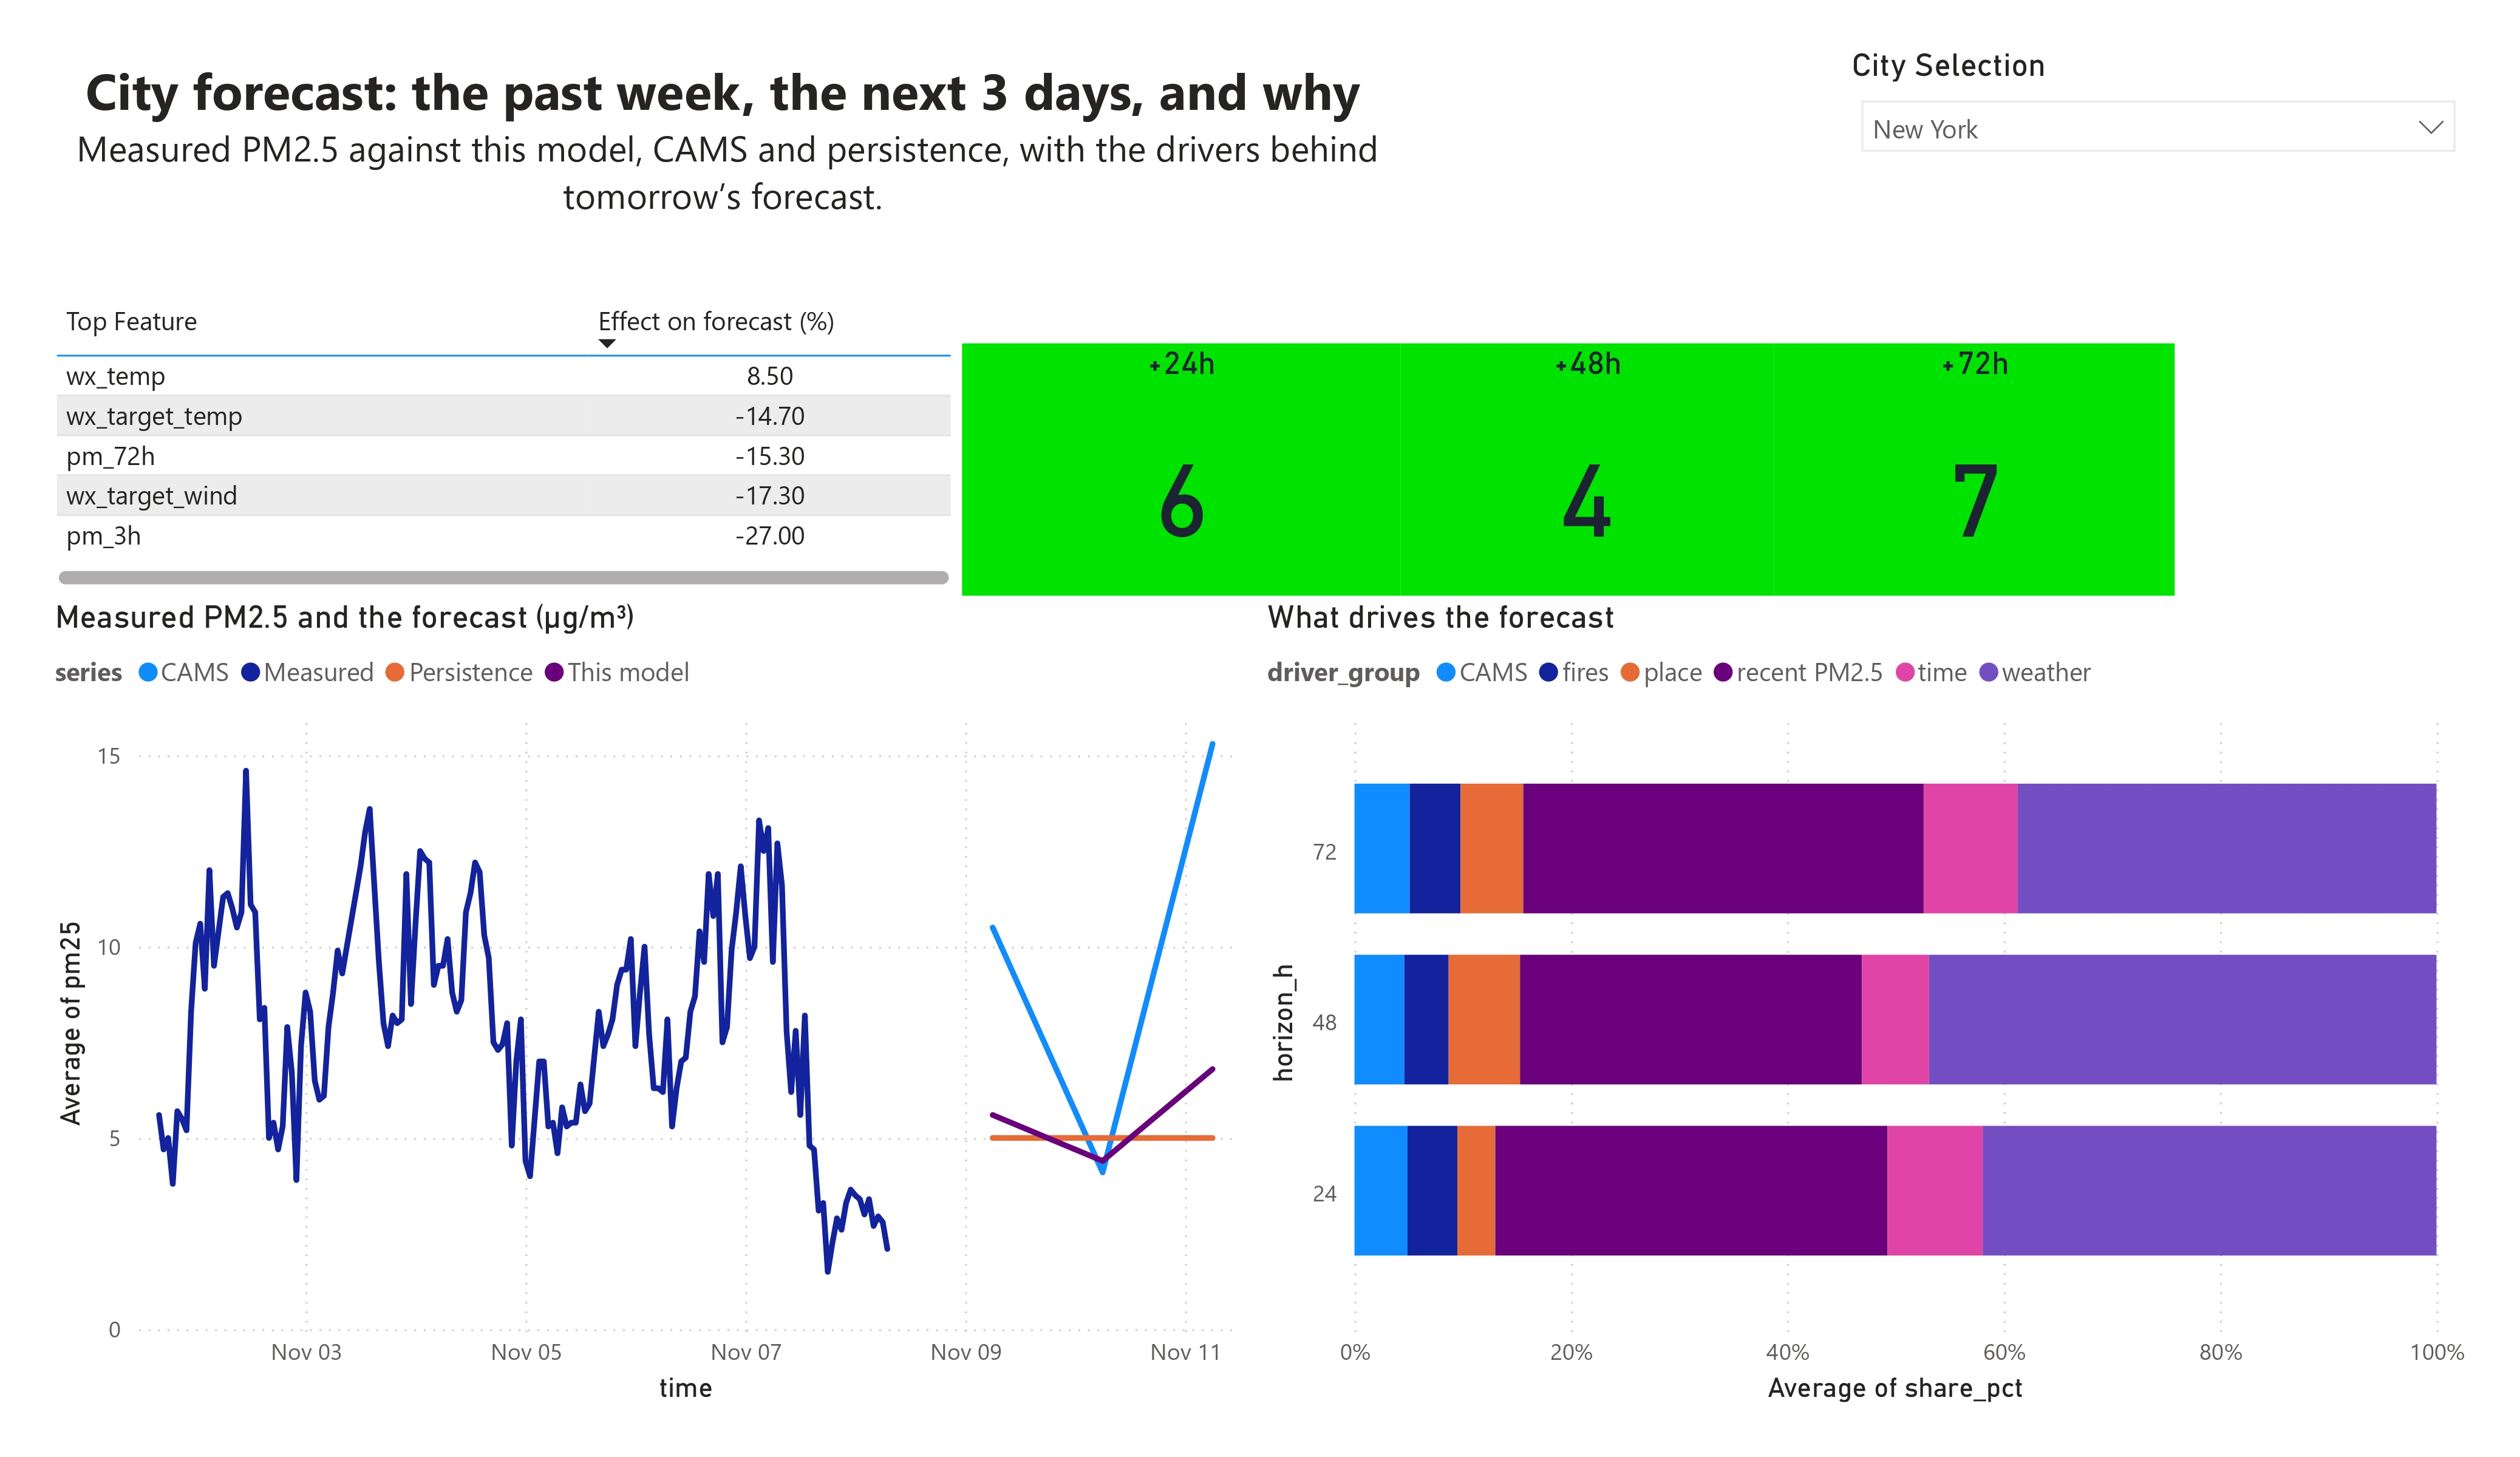

The dashboard page shown, as its layout file describes it:
{"tool":"powerbi","page":{"name":"City Detail","canvas":[1280,720],"ordinal":1},"visuals":[{"type":"slicer","title":"City Selection ","fields":{"Values":["Cities.name"]},"box":[946.8,0,333.4,76.8],"z":0},{"type":"lineChart","title":"Measured PM2.5 and the forecast (µg/m³)","fields":{"Category":["Timeline.time"],"Series":["Timeline.series"],"Y":["Avg(Timeline.pm25)"]},"box":[0,290.9,639.5,429.5],"z":1000},{"type":"card","title":"+24h","fields":{"Values":["_Measeures.Forecast PM2.5"]},"box":[483,157.3,230.5,133.1],"z":2000},{"type":"card","title":"+48h","fields":{"Values":["_Measeures.Forecast PM2.5"]},"box":[713.6,157.3,197.6,133.1],"z":3000},{"type":"card","title":"+72h","fields":{"Values":["_Measeures.Forecast PM2.5"]},"box":[911.2,157.3,211.3,133.1],"z":4000},{"type":"hundredPercentStackedBarChart","title":"What drives the forecast","fields":{"Category":["Drivers.horizon_h"],"Series":["Drivers.driver_group"],"Y":["Avg(Drivers.share_pct)"]},"box":[639.5,290.9,640.8,429.5],"z":5000},{"type":"tableEx","fields":{"Values":["TopFeatures.feature","TopFeatures.effect_pct"]},"box":[0,129.8,481.6,160.5],"z":6000},{"type":"textbox","box":[0,0,713.6,100.2],"z":7000}]}

Visuals, with their boxes on the page's 1280x720 design canvas (x1, y1, x2, y2). These are canvas units, not pixel positions in the 2520x1457 screenshot, which may show the page scaled, cropped or inside an application window:
"City Selection " slicer: {"x1": 947, "y1": 0, "x2": 1280, "y2": 77}
"Measured PM2.5 and the forecast (µg/m³)" lineChart: {"x1": 0, "y1": 291, "x2": 640, "y2": 720}
"+24h" card: {"x1": 483, "y1": 157, "x2": 714, "y2": 290}
"+48h" card: {"x1": 714, "y1": 157, "x2": 911, "y2": 290}
"+72h" card: {"x1": 911, "y1": 157, "x2": 1122, "y2": 290}
"What drives the forecast" hundredPercentStackedBarChart: {"x1": 640, "y1": 291, "x2": 1280, "y2": 720}
tableEx - TopFeatures.feature x TopFeatures.effect_pct: {"x1": 0, "y1": 130, "x2": 482, "y2": 290}
textbox: {"x1": 0, "y1": 0, "x2": 714, "y2": 100}
